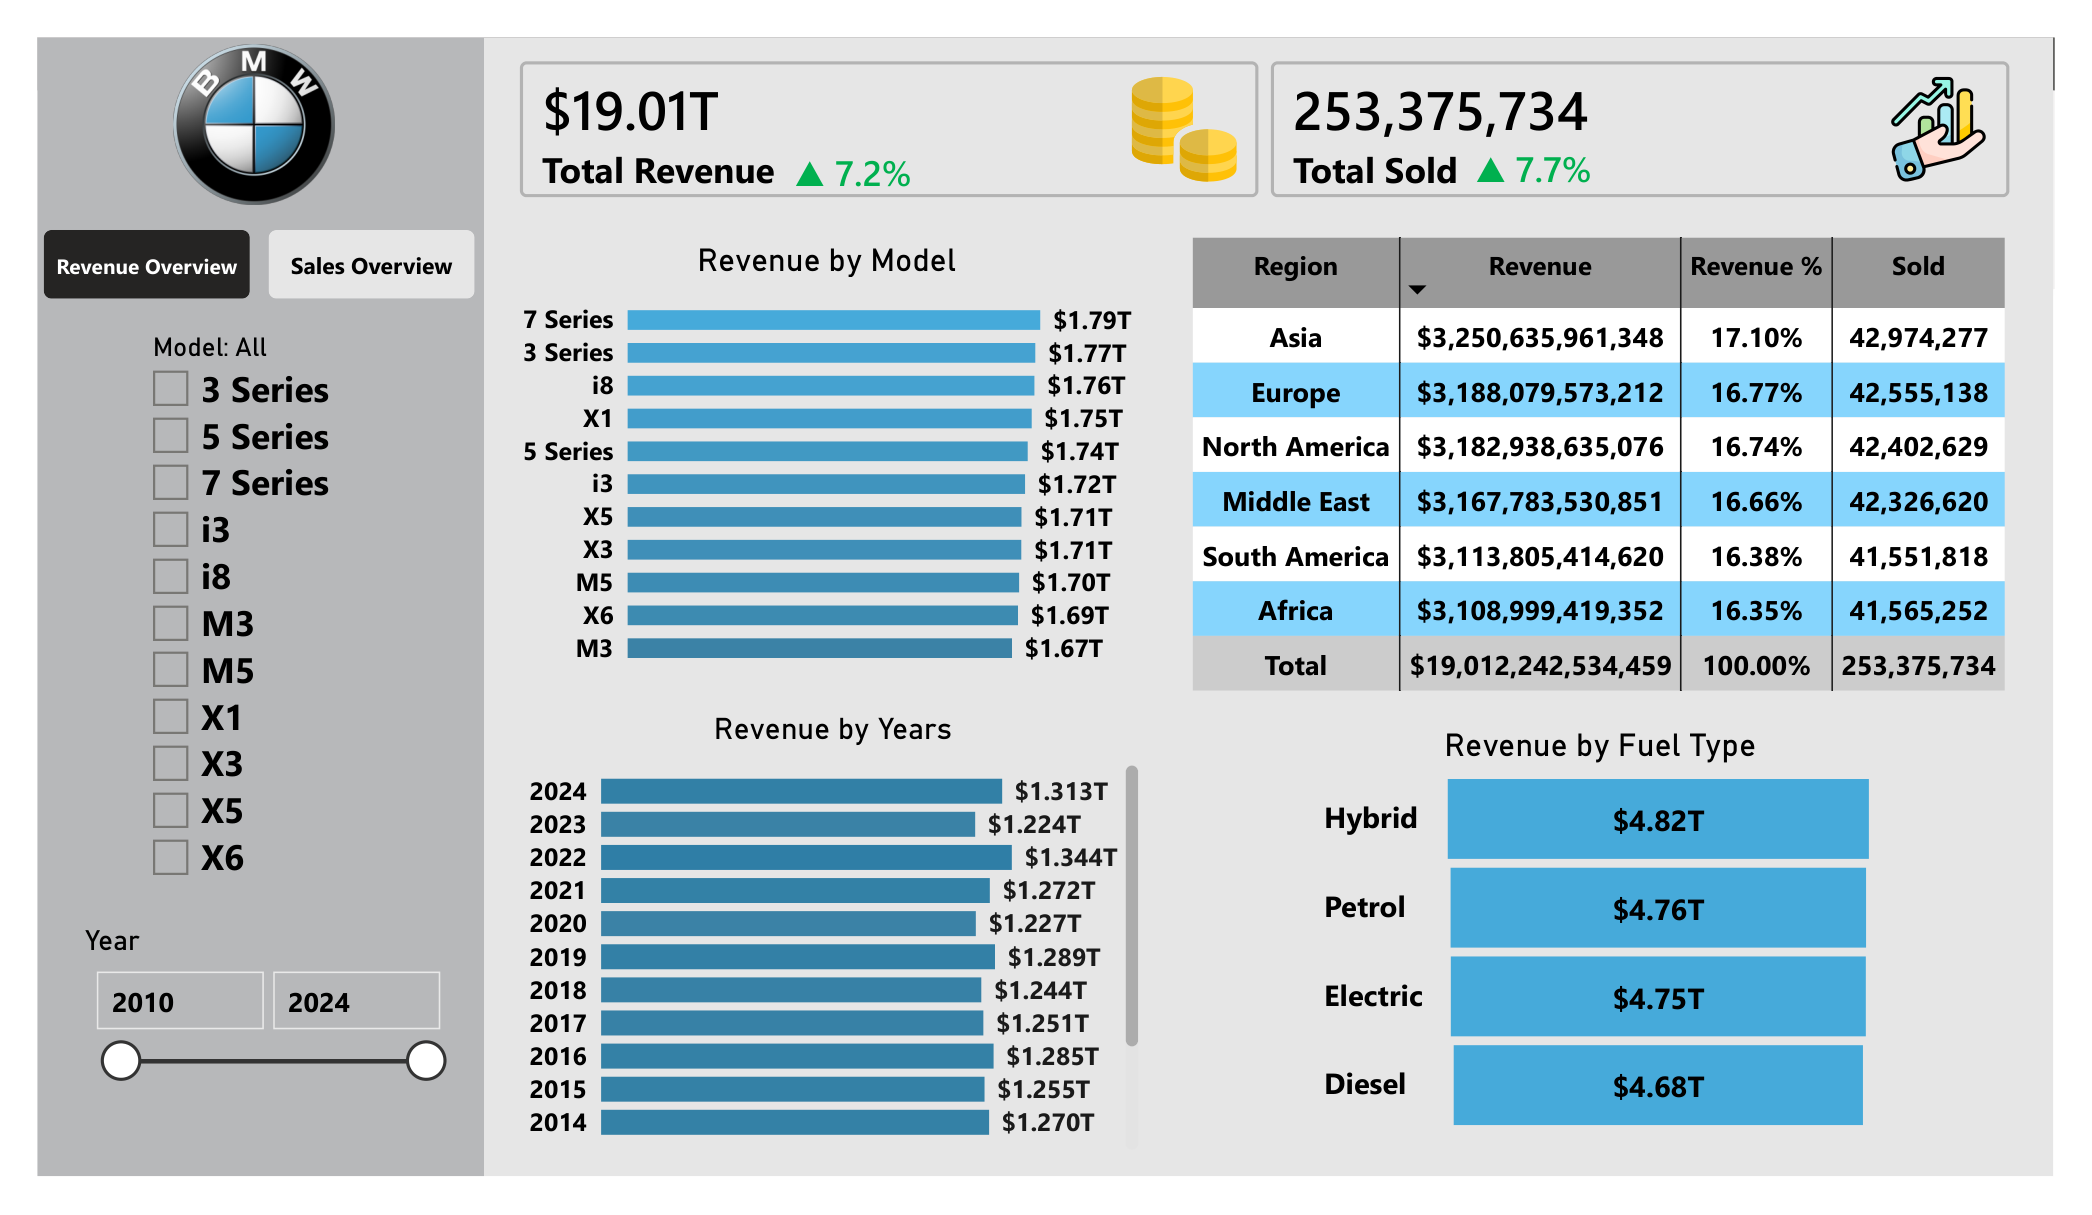

This screenshot's page, from the dashboard's own definition file:
{"tool":"powerbi","page":{"name":"Revenue Overview","canvas":[1291,729],"ordinal":0},"visuals":[{"type":"shape","box":[0,0,285.7,728.6],"z":0},{"type":"funnel","title":"Revenue by Fuel Type","fields":{"Category":["bmw_sales_data_2010_2024.Fuel_Type"],"Y":["bmw_sales_data_2010_2024.Total Revenue"]},"box":[858.2,447.7,364.5,265.5],"z":1000},{"type":"clusteredBarChart","title":"Revenue by Model","fields":{"Y":["bmw_sales_data_2010_2024.Total Revenue"],"Category":["bmw_sales_data_2010_2024.Model"]},"box":[304.3,130,404.3,281.4],"z":2000},{"type":"image","box":[67.1,4.3,141.4,102.9],"z":3000},{"type":"slicer","title":"Year","fields":{"Values":["bmw_sales_data_2010_2024.Year"]},"box":[24.8,567.2,244.9,140],"z":4000},{"type":"tableEx","fields":{"Values":["bmw_sales_data_2010_2024.Region","bmw_sales_data_2010_2024.Total Revenue","Divide(bmw_sales_data_2010_2024.Total Revenue, ScopedEval(bmw_sales_data_2010_2024.Total Revenue, []))","Sum(bmw_sales_data_2010_2024.Sales_Volume)"]},"box":[734.7,123.4,533.8,308.5],"z":5000},{"type":"cardVisual","fields":{"Data":["bmw_sales_data_2010_2024.Total Revenue","Sum(bmw_sales_data_2010_2024.Sales_Volume)"]},"box":[304.3,10,964.3,97.1],"z":6000},{"type":"cardVisual","fields":{"Data":["bmw_sales_data_2010_2024.Revenue Trend Text"]},"box":[456.3,56,212.4,57.4],"z":7000},{"type":"cardVisual","fields":{"Data":["bmw_sales_data_2010_2024.Sales Volume Trend Text"]},"box":[892.6,53.1,206.6,58.8],"z":8000},{"type":"image","box":[695.5,24.8,78.7,67.1],"z":9000},{"type":"image","box":[1178.1,24.8,78.7,67.1],"z":10000},{"type":"pageNavigator","box":[4.3,122.9,275.7,44.3],"z":11000},{"type":"slicer","fields":{"Values":["bmw_sales_data_2010_2024.Model"]},"box":[61.4,182.9,171.4,361.4],"z":12000},{"type":"clusteredBarChart","title":"Revenue by Year","fields":{"Category":["bmw_sales_data_2010_2024.Year"],"Y":["bmw_sales_data_2010_2024.Total Revenue"]},"box":[305.7,431.9,480.7,298.5],"z":13000}]}

Visuals, with their boxes on the page's 1291x729 design canvas (x1, y1, x2, y2). These are canvas units, not pixel positions in the 2092x1215 screenshot, which may show the page scaled, cropped or inside an application window:
shape: detection(0, 0, 286, 729)
"Revenue by Fuel Type" funnel: detection(858, 448, 1223, 713)
"Revenue by Model" clusteredBarChart: detection(304, 130, 709, 411)
image: detection(67, 4, 208, 107)
"Year" slicer: detection(25, 567, 270, 707)
tableEx - bmw_sales_data_2010_2024.Region x bmw_sales_data_2010_2024.Total Revenue: detection(735, 123, 1268, 432)
cardVisual - bmw_sales_data_2010_2024.Total Revenue x Sum(bmw_sales_data_2010_2024.Sales_Volume): detection(304, 10, 1269, 107)
cardVisual - bmw_sales_data_2010_2024.Revenue Trend Text: detection(456, 56, 669, 113)
cardVisual - bmw_sales_data_2010_2024.Sales Volume Trend Text: detection(893, 53, 1099, 112)
image: detection(696, 25, 774, 92)
image: detection(1178, 25, 1257, 92)
pageNavigator: detection(4, 123, 280, 167)
slicer - bmw_sales_data_2010_2024.Model: detection(61, 183, 233, 544)
"Revenue by Year" clusteredBarChart: detection(306, 432, 786, 730)
